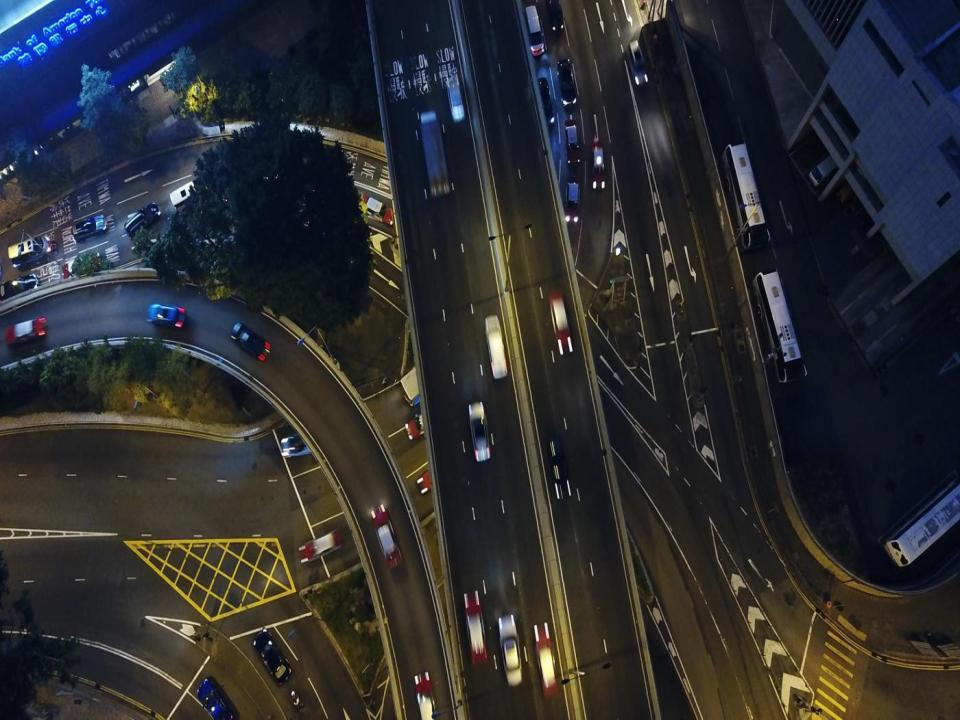bus: (877, 446, 960, 567), (752, 270, 808, 384), (401, 351, 502, 406), (721, 143, 771, 248), (169, 176, 228, 214)
car: (254, 629, 291, 686), (534, 622, 560, 700), (371, 505, 402, 570), (464, 591, 488, 664), (498, 614, 522, 685), (298, 529, 344, 564), (484, 314, 508, 380), (549, 290, 573, 354), (231, 322, 270, 361), (196, 679, 234, 719), (550, 437, 573, 500), (468, 401, 491, 462), (405, 410, 452, 439), (125, 202, 161, 239), (416, 464, 459, 493), (356, 191, 396, 221), (414, 672, 438, 719), (5, 317, 47, 343), (281, 434, 327, 457), (534, 78, 555, 127), (146, 303, 185, 328), (71, 214, 106, 241), (557, 59, 576, 105), (446, 77, 465, 122), (564, 120, 582, 165), (591, 141, 606, 188)
truck: (419, 110, 450, 196)
van: (8, 237, 52, 266), (1, 273, 38, 302), (526, 4, 544, 55), (564, 182, 580, 224), (547, 0, 565, 33)
